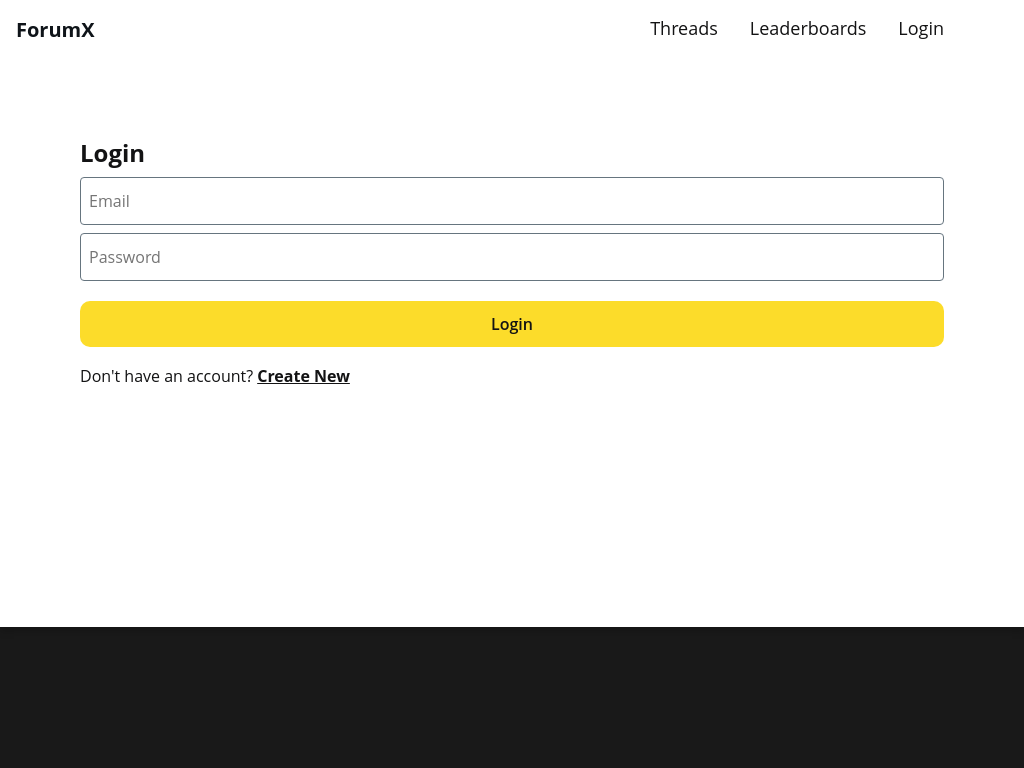
Login spec › should display homepage when email and password are correct
Step 1. Type "user@mail.com" into the field with placeholder "Email" → (512, 201), box [80, 177, 944, 225]
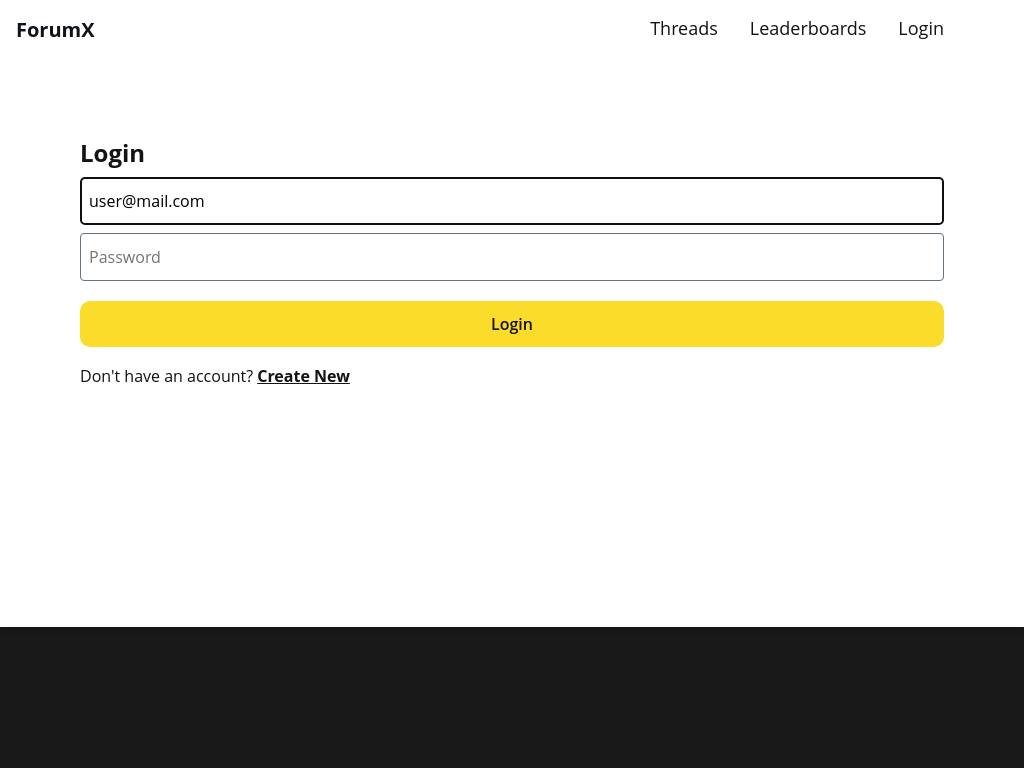
Step 2. Type "12345678" into the password field with placeholder "Password" → (512, 257), box [80, 233, 944, 281]
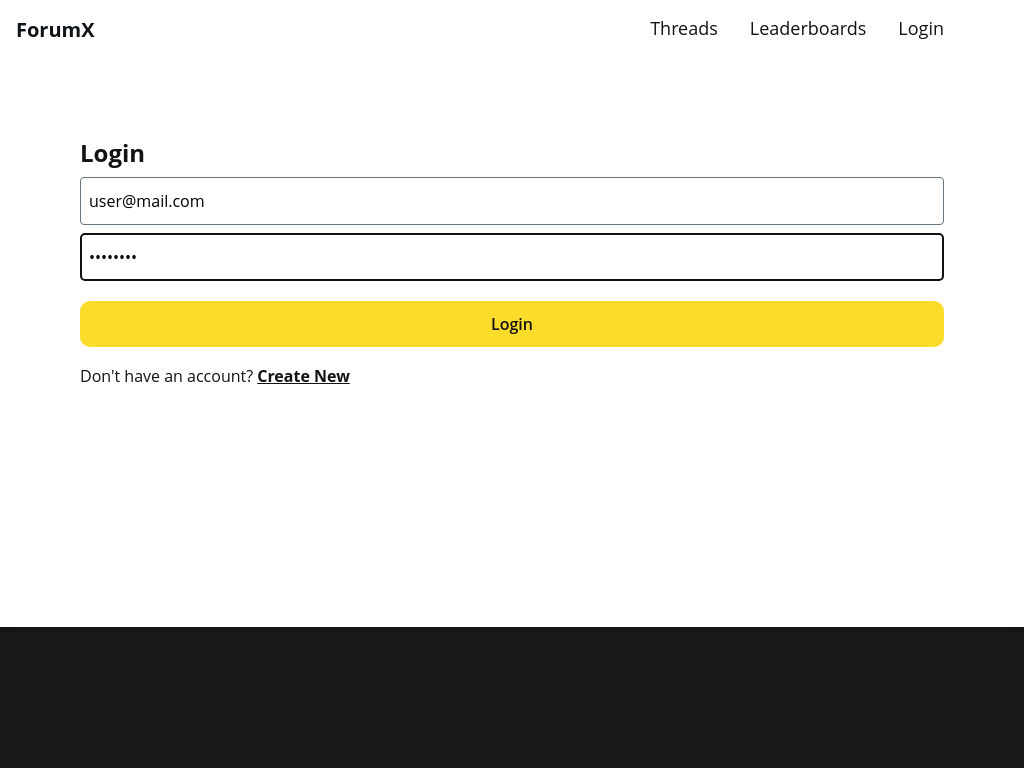
Step 3. Click the button "Login" → (512, 324), box [80, 301, 944, 347]
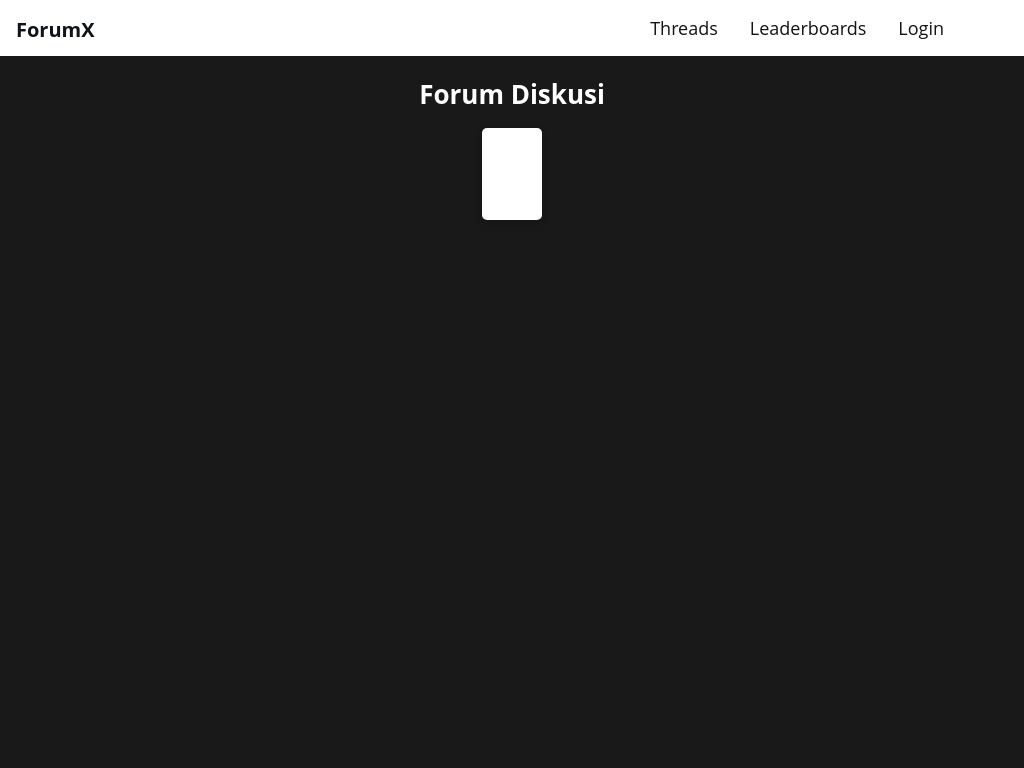
Expected: the link "Threads" is shown, [650, 16, 718, 40]
Expected: the heading "Forum Diskusi" is shown, [419, 76, 605, 112]
